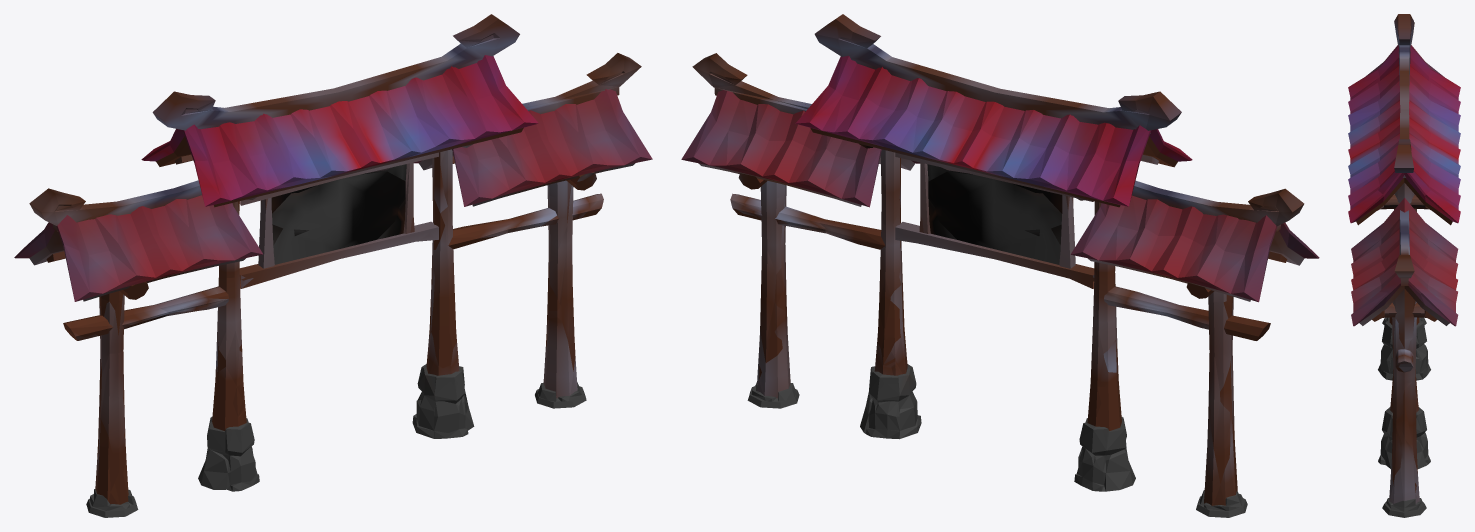
The model's file is Terrain_Door_2.fbx.
3 renders of one model, left to right at view 1: azimuth 30°, elevation 25°; view 2: azimuth 150°, elevation 25°; view 3: azimuth 270°, elevation 25°, orthographic. The views are drawn at different scales.
Parts seen in each view (by area): view 1: terrain_door_301_LOD0; view 2: terrain_door_301_LOD0; view 3: terrain_door_301_LOD0.
Part boxes in pixels (<box>): terrain_door_301_LOD0: <box>14,14,652,517</box>; terrain_door_301_LOD0: <box>681,14,1319,517</box>; terrain_door_301_LOD0: <box>1348,14,1460,517</box>.
Size of the model in its own units: 2029 by 1283 by 390.
1 material, 1 textured.
